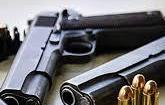gun: (1, 1, 165, 105)
